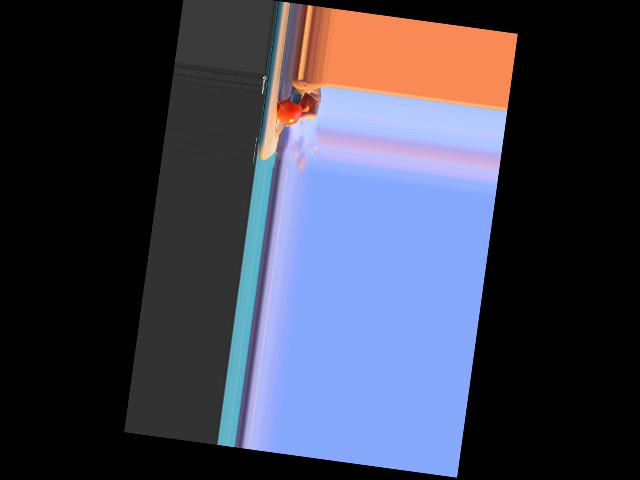tomato: (275, 98, 302, 127)
